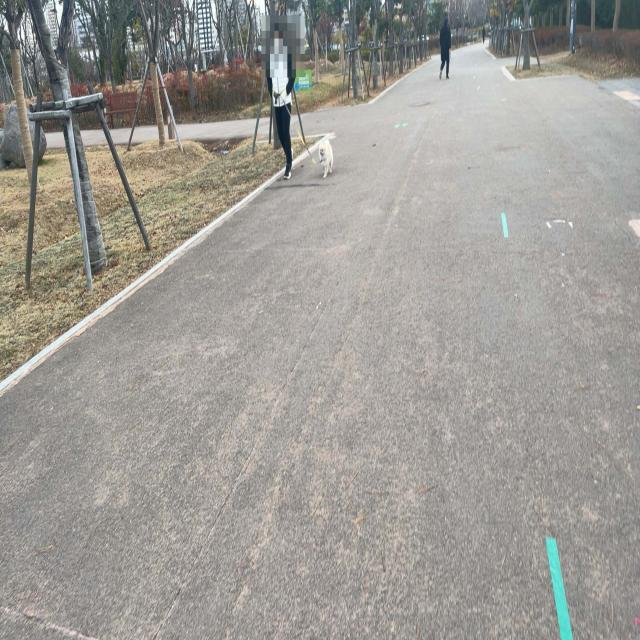Leashed_Dog: (273, 86, 333, 180)
